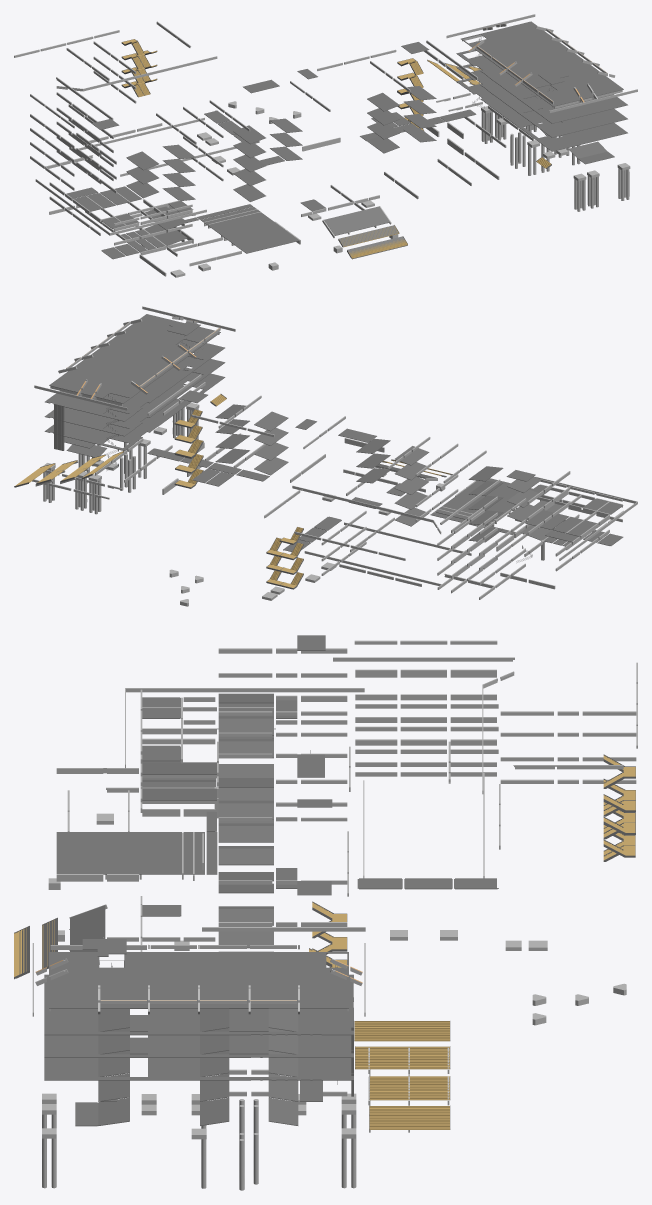
Rendered from teaching-building_5.gltf.
The picture shows the model from 3 angles, top to bottom: view 1: azimuth 30°, elevation 25°; view 2: azimuth 150°, elevation 25°; view 3: azimuth 270°, elevation 25°; orthographic projection. The views are drawn at different scales.
Parts seen in each view (by area): view 1: 常规 - 120mm [610846], 常规 - 120mm [573801], 常规 - 120mm [610242], 常规 - 120mm [609522], 常规 - 120mm [608559], 常规 - 120mm [594362], 常规 - 110mm [593790], 常规 - 120mm [594349], 常规 - 120mm [594332], L1(5B) - 200x700 [592421], 常规 - 120mm [594694], 楼梯 [492909] (+1 smaller); view 2: 常规 - 120mm [610846], 常规 - 120mm [610242], 常规 - 120mm [609522], 常规 - 120mm [608559], 常规 - 120mm [573801], 常规 - 110mm [593790], 常规模型 3 [603596], L1(5B) - 200x700 [592421], L1(5A) - 200x650 [578275]; view 3: 常规 - 120mm [610846], 常规 - 120mm [573801], 常规 - 120mm [610242], 常规 - 120mm [609522], 常规 - 120mm [608559], 楼梯 [600619], 楼梯 [600666], 楼梯 [600572], 常规 - 110mm [593790], 楼梯 [600525], L7(5B) - 200x700 [583257], 常规 - 120mm [594362] (+16 smaller).
Part boxes in pixels (x1,y1,x2,y2): 常规 - 120mm [610846]: [461, 21, 623, 106]; 常规 - 120mm [573801]: [185, 204, 299, 253]; 常规 - 120mm [610242]: [456, 49, 627, 123]; 常规 - 120mm [609522]: [456, 64, 627, 137]; 常规 - 120mm [608559]: [456, 78, 627, 151]; 常规 - 120mm [594362]: [324, 206, 390, 235]; 常规 - 110mm [593790]: [91, 42, 429, 129]; 常规 - 120mm [594349]: [339, 225, 398, 246]; 常规 - 120mm [594332]: [347, 236, 407, 259]; L1(5B) - 200x700 [592421]: [83, 56, 217, 91]; 常规 - 120mm [594694]: [144, 224, 187, 246]; 楼梯 [492909]: [347, 236, 407, 258]; 常规 - 120mm [610846]: [49, 314, 220, 403]; 常规 - 120mm [610242]: [45, 339, 224, 421]; 常规 - 120mm [609522]: [44, 355, 225, 436]; 常规 - 120mm [608559]: [44, 367, 225, 450]; 常规 - 120mm [573801]: [430, 478, 532, 534]; 常规 - 110mm [593790]: [178, 390, 535, 481]; 常规模型 3 [603596]: [54, 403, 64, 450]; L1(5B) - 200x700 [592421]: [292, 485, 433, 522]; L1(5A) - 200x650 [578275]: [304, 551, 441, 585]; 常规 - 120mm [610846]: [49, 952, 348, 1008]; 常规 - 120mm [573801]: [56, 811, 217, 874]; 常规 - 120mm [610242]: [44, 974, 353, 1035]; 常规 - 120mm [609522]: [44, 997, 353, 1057]; 常规 - 120mm [608559]: [44, 1035, 353, 1080]; 楼梯 [600619]: [355, 1046, 450, 1069]; 楼梯 [600666]: [354, 1021, 450, 1041]; 楼梯 [600572]: [369, 1076, 450, 1100]; 常规 - 110mm [593790]: [297, 635, 332, 895]; 楼梯 [600525]: [369, 1105, 450, 1129]; L7(5B) - 200x700 [583257]: [126, 688, 364, 692]; 常规 - 120mm [594362]: [70, 905, 105, 951].
Bounding box in the file's own units: 157 × 37 × 105.
